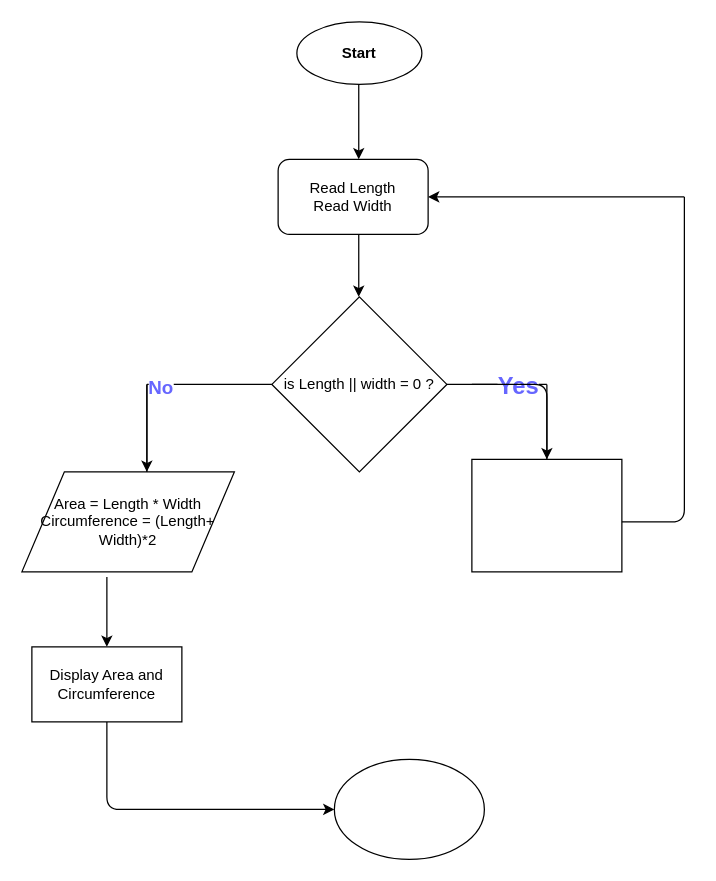
This 716x881 diagram has some shape labels left out. The centre of each missing label's shape, as x and y in pixels:
"Display It is not rectangle try number greater than 0." goes at [546,515].
"Stop" goes at [408,808].
